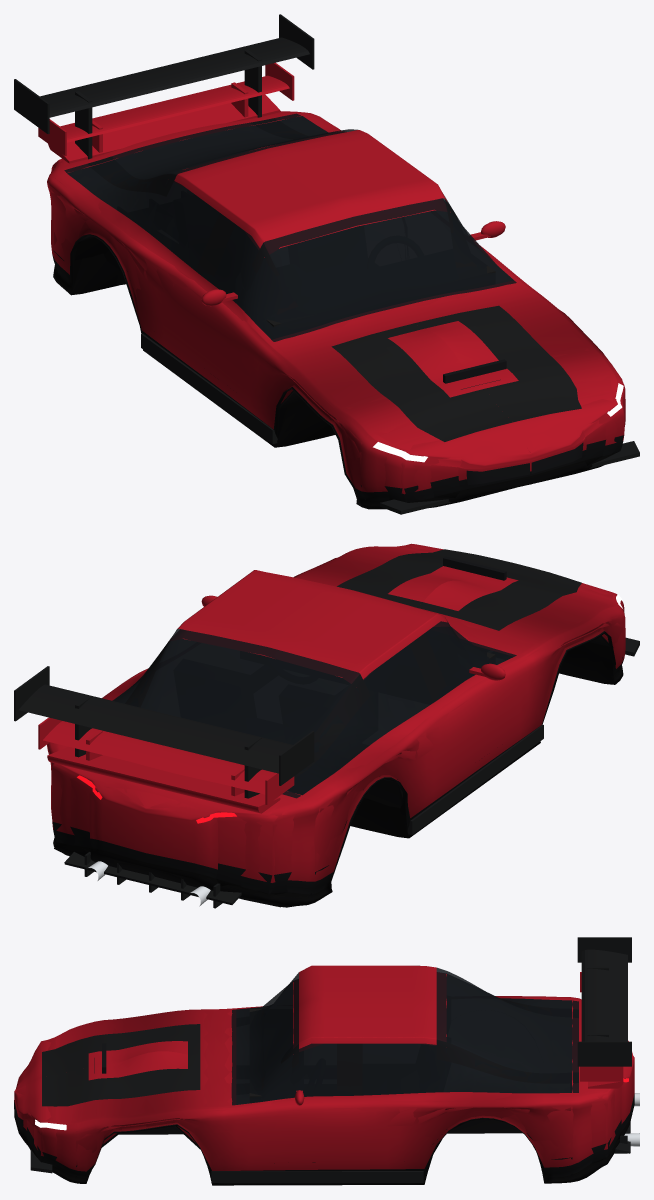
Rendered from sr_porsche_911_gt3.glb.
3 renders of one model, top to bottom at view 1: azimuth 30°, elevation 25°; view 2: azimuth 150°, elevation 25°; view 3: azimuth 270°, elevation 25°, orthographic. The views are drawn at different scales.
Visible parts, largest first — view 1: body (×2), hood_3, spoiler_3, spoiler_2, hood_1, spoiler_1, bumper_1, grille, mirrors; view 2: body (×2), spoiler_3, hood_3, spoiler_2, bumper_1, spoiler_1, hood_1, hood_1_intake, mirrors; view 3: body (×2), hood_3, spoiler_3, bumper_1, hood_1, spoiler_2.
Part boxes in pixels (x1=…): body (×2): x1=47, y1=111, x2=625, y2=509; hood_3: x1=331, y1=305, x2=581, y2=441; spoiler_3: x1=14, y1=14, x2=314, y2=159; spoiler_2: x1=38, y1=62, x2=294, y2=155; hood_1: x1=388, y1=321, x2=518, y2=397; spoiler_1: x1=48, y1=94, x2=280, y2=163; bumper_1: x1=141, y1=334, x2=639, y2=514; grille: x1=466, y1=442, x2=583, y2=485; mirrors: x1=201, y1=221, x2=505, y2=306; body (×2): x1=47, y1=543, x2=625, y2=907; spoiler_3: x1=14, y1=666, x2=314, y2=798; hood_3: x1=337, y1=549, x2=581, y2=630; spoiler_2: x1=38, y1=717, x2=294, y2=804; bumper_1: x1=64, y1=637, x2=639, y2=908; spoiler_1: x1=47, y1=746, x2=280, y2=813; hood_1: x1=388, y1=566, x2=518, y2=610; hood_1_intake: x1=443, y1=556, x2=506, y2=580; mirrors: x1=201, y1=595, x2=505, y2=680; body (×2): x1=14, y1=965, x2=634, y2=1185; hood_3: x1=42, y1=1024, x2=200, y2=1106; spoiler_3: x1=577, y1=937, x2=631, y2=1066; bumper_1: x1=30, y1=1122, x2=630, y2=1182; hood_1: x1=88, y1=1041, x2=187, y2=1080; spoiler_2: x1=580, y1=972, x2=623, y2=1081.
Bounding box in the file's own units: 2.08 × 1.18 × 4.6.
